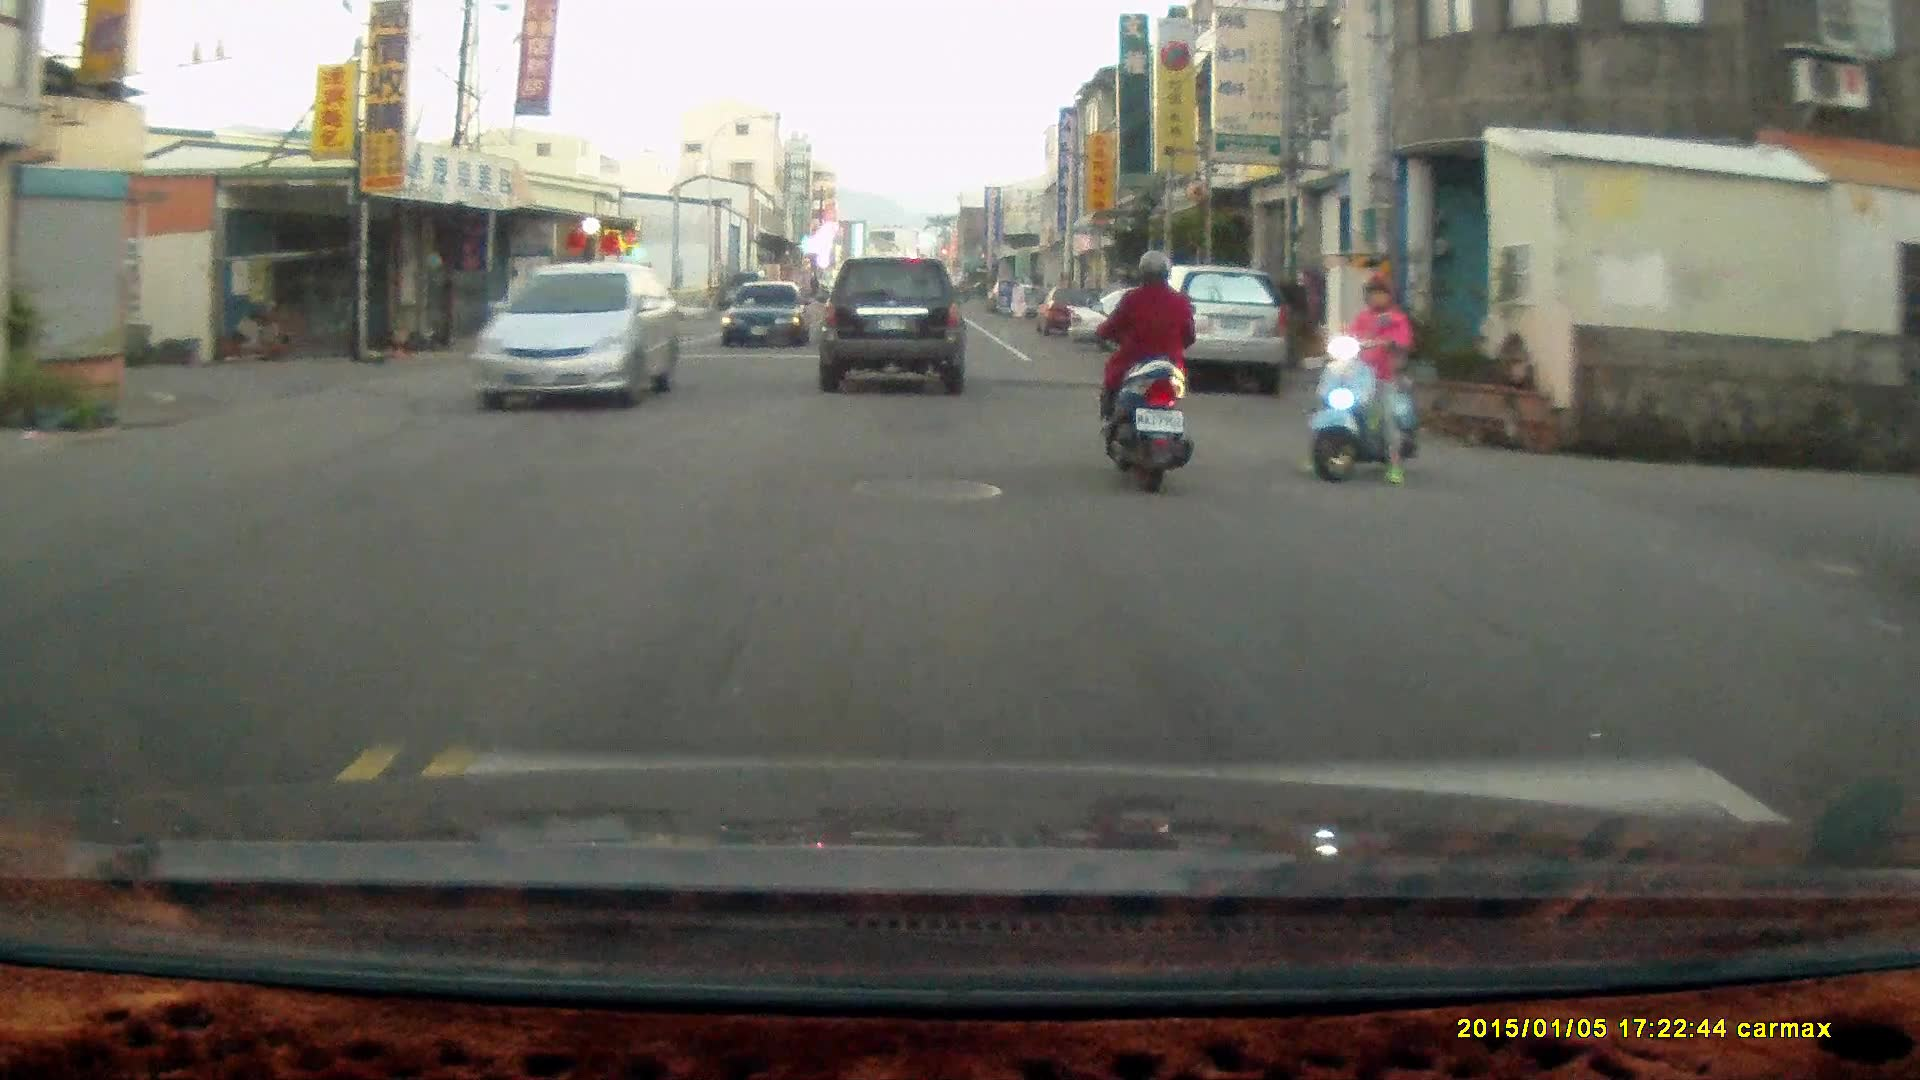rider: (1298, 269, 1419, 485), (1099, 249, 1195, 501)
vehicle: (475, 260, 682, 411), (1123, 266, 1291, 395), (817, 256, 967, 400), (1066, 283, 1243, 355), (727, 282, 812, 352)
